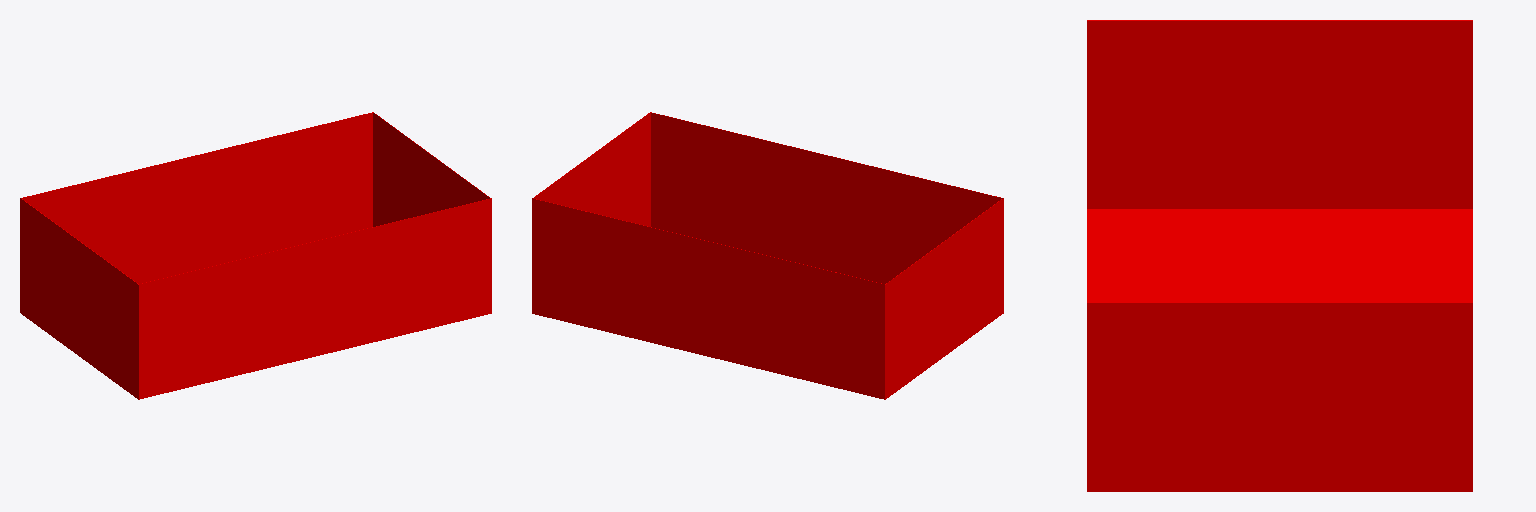
URDF robot description (square.urdf):
<?xml version="1.0" ?>
<robot name="square.urdf">
  <link name="baseLink">
    <contact>
      <lateral_friction value="1.0"/>
      <inertia_scaling value="3.0"/>
    </contact>
    <inertial>
      <origin rpy="0 0 0" xyz="0 0 0"/>
       <mass value=".1"/>
       <inertia ixx="1" ixy="0" ixz="0" iyy="1" iyz="0" izz="1"/>
    </inertial>
    <visual>
      <origin rpy="0 0 0" xyz="0 0 0"/>
      <geometry>
        <mesh filename="19.stl" scale="1 1 1" />
      </geometry>
      <material name="red">
        <color rgba="1 0 0 1"/>
      </material>
    </visual>
    <collision>
      <origin rpy="0 0 0" xyz="0 0 0"/>
      <geometry>
        <mesh filename="19_convex.obj" scale="1 1 1" />
      </geometry>
    </collision>
  </link>
</robot>

--- What the picture shows (computed from the rendered views, not written in the file) ---
3 views of the same robot in one strip: view 1: azimuth 30°, elevation 25°; view 2: azimuth 150°, elevation 25°; view 3: azimuth 270°, elevation 25° (orthographic).
Model square.urdf with 1 links and 0 joints (none), rooted at baseLink, posed every joint at zero.
Visible links, largest first — view 1: baseLink; view 2: baseLink; view 3: baseLink.
Link boxes in pixels (x1,y1,x2,y2): baseLink: (20,112,491,399); baseLink: (532,112,1003,399); baseLink: (1087,20,1472,491).
Bounding box of the posed robot: 0.8003 × 0.4636 × 0.2496 m (x, y, z).
Meshes: 1 distinct files referenced, 1 mesh visuals loaded (1 binary STL).